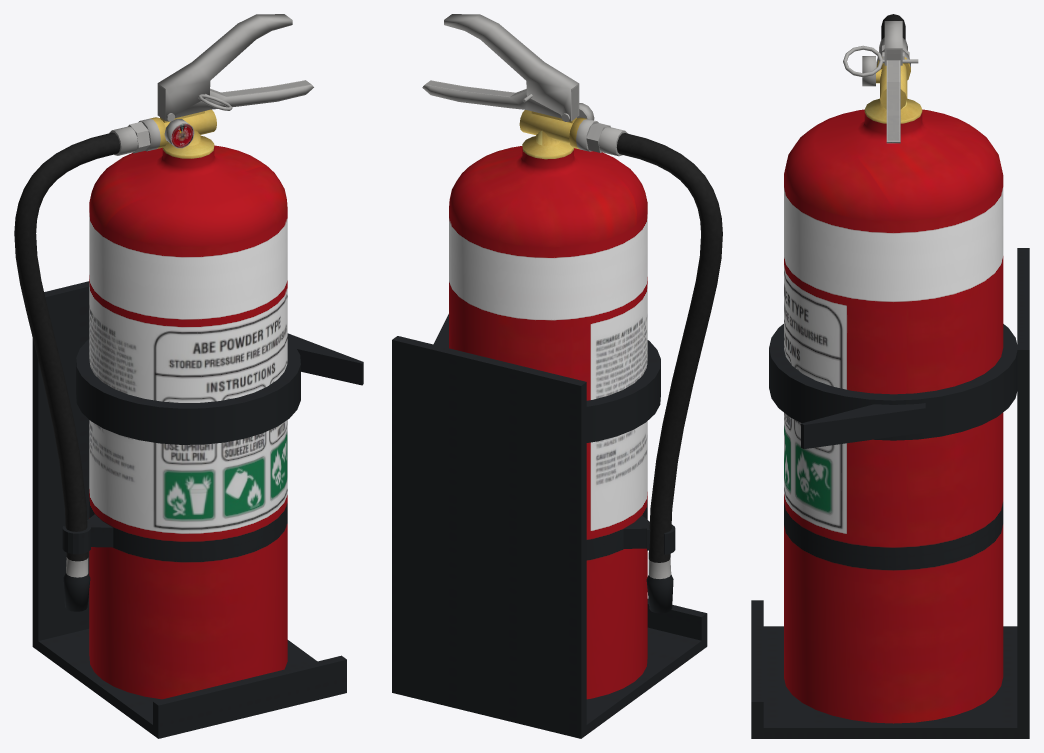
The model's file is fire-extinguisher-cbj_LOD00.gltf.
The picture shows the model from 3 angles, left to right: view 1: azimuth 30°, elevation 25°; view 2: azimuth 150°, elevation 25°; view 3: azimuth 270°, elevation 25°; orthographic projection. The views are drawn at different scales.
Parts seen in each view (by area): view 1: Fire extinguisher.001; view 2: Fire extinguisher.001; view 3: Fire extinguisher.001.
Part boxes in pixels (x1=…): Fire extinguisher.001: x1=14, y1=14, x2=363, y2=738; Fire extinguisher.001: x1=392, y1=14, x2=722, y2=738; Fire extinguisher.001: x1=751, y1=14, x2=1029, y2=738.
Bounding box in the file's own units: 0.3255 × 0.6414 × 0.2306.
